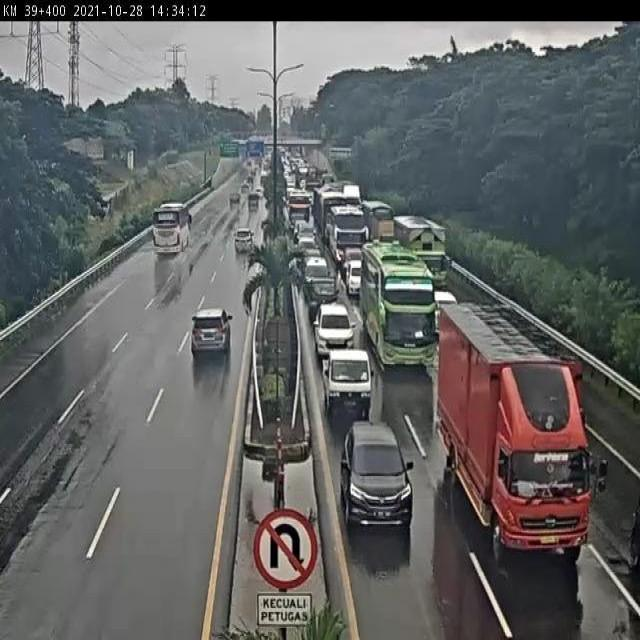bus-l-: (364, 249, 442, 368), (150, 202, 194, 258), (330, 204, 366, 261)
car: (339, 424, 416, 532), (322, 340, 365, 392), (315, 303, 354, 341), (303, 253, 336, 288), (344, 258, 369, 294), (234, 222, 257, 255), (297, 234, 317, 258)
truck-l-: (440, 304, 592, 557), (392, 216, 453, 292)
